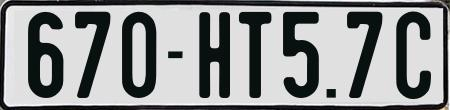0: (122, 10, 160, 102)
5: (281, 11, 317, 102)
6: (27, 11, 63, 97)
7: (344, 12, 384, 103), (75, 10, 111, 97)
C: (396, 11, 434, 105)
H: (197, 12, 228, 99)
T: (237, 12, 272, 100)
